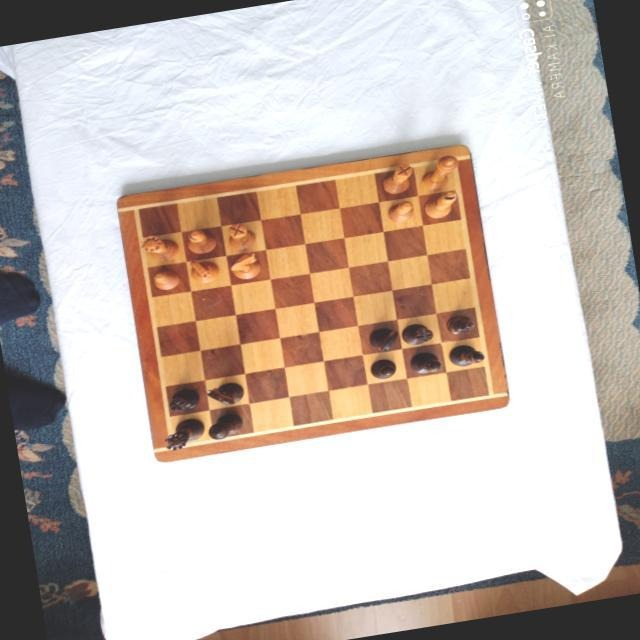black-bishop: (446, 342, 485, 368), (408, 349, 443, 377)
black-king: (204, 410, 246, 442)
black-knight: (202, 379, 245, 409), (367, 326, 401, 354)
black-pawn: (444, 313, 476, 337), (368, 356, 397, 381)
black-queen: (159, 415, 207, 452)
black-rook: (164, 386, 200, 414), (399, 320, 435, 347)
white-bishop: (420, 189, 460, 219), (183, 226, 217, 256)
white-king: (418, 153, 462, 193)
white-knight: (226, 250, 261, 282), (187, 255, 221, 285)
white-pawn: (151, 268, 181, 292), (386, 200, 414, 224)
white-queen: (137, 231, 181, 265)
white-rook: (380, 162, 416, 196), (223, 220, 257, 252)
